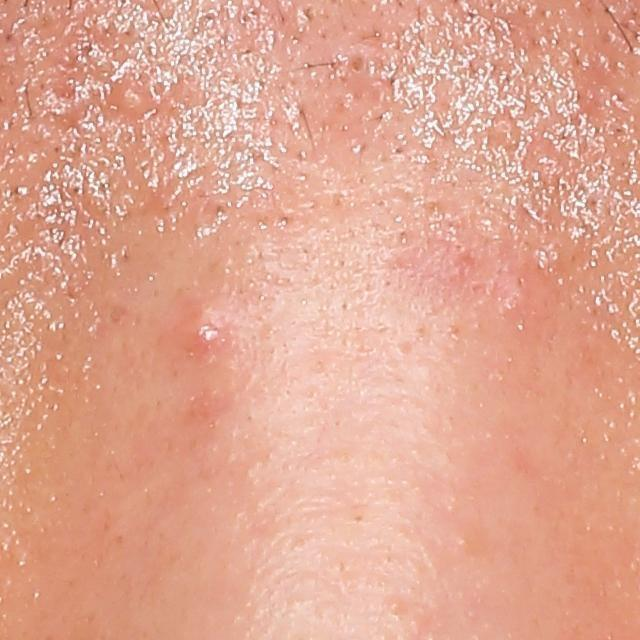comedo: (345, 51, 372, 80), (387, 596, 405, 614)
